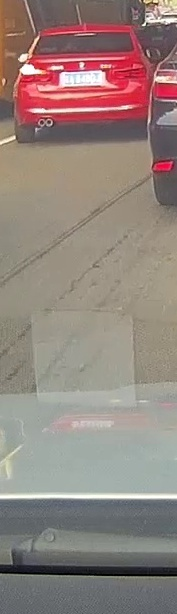L_light: (19, 64, 52, 82)
R_light: (112, 63, 147, 78)
T_light: (74, 32, 96, 36)
day-left: (13, 24, 153, 144)
